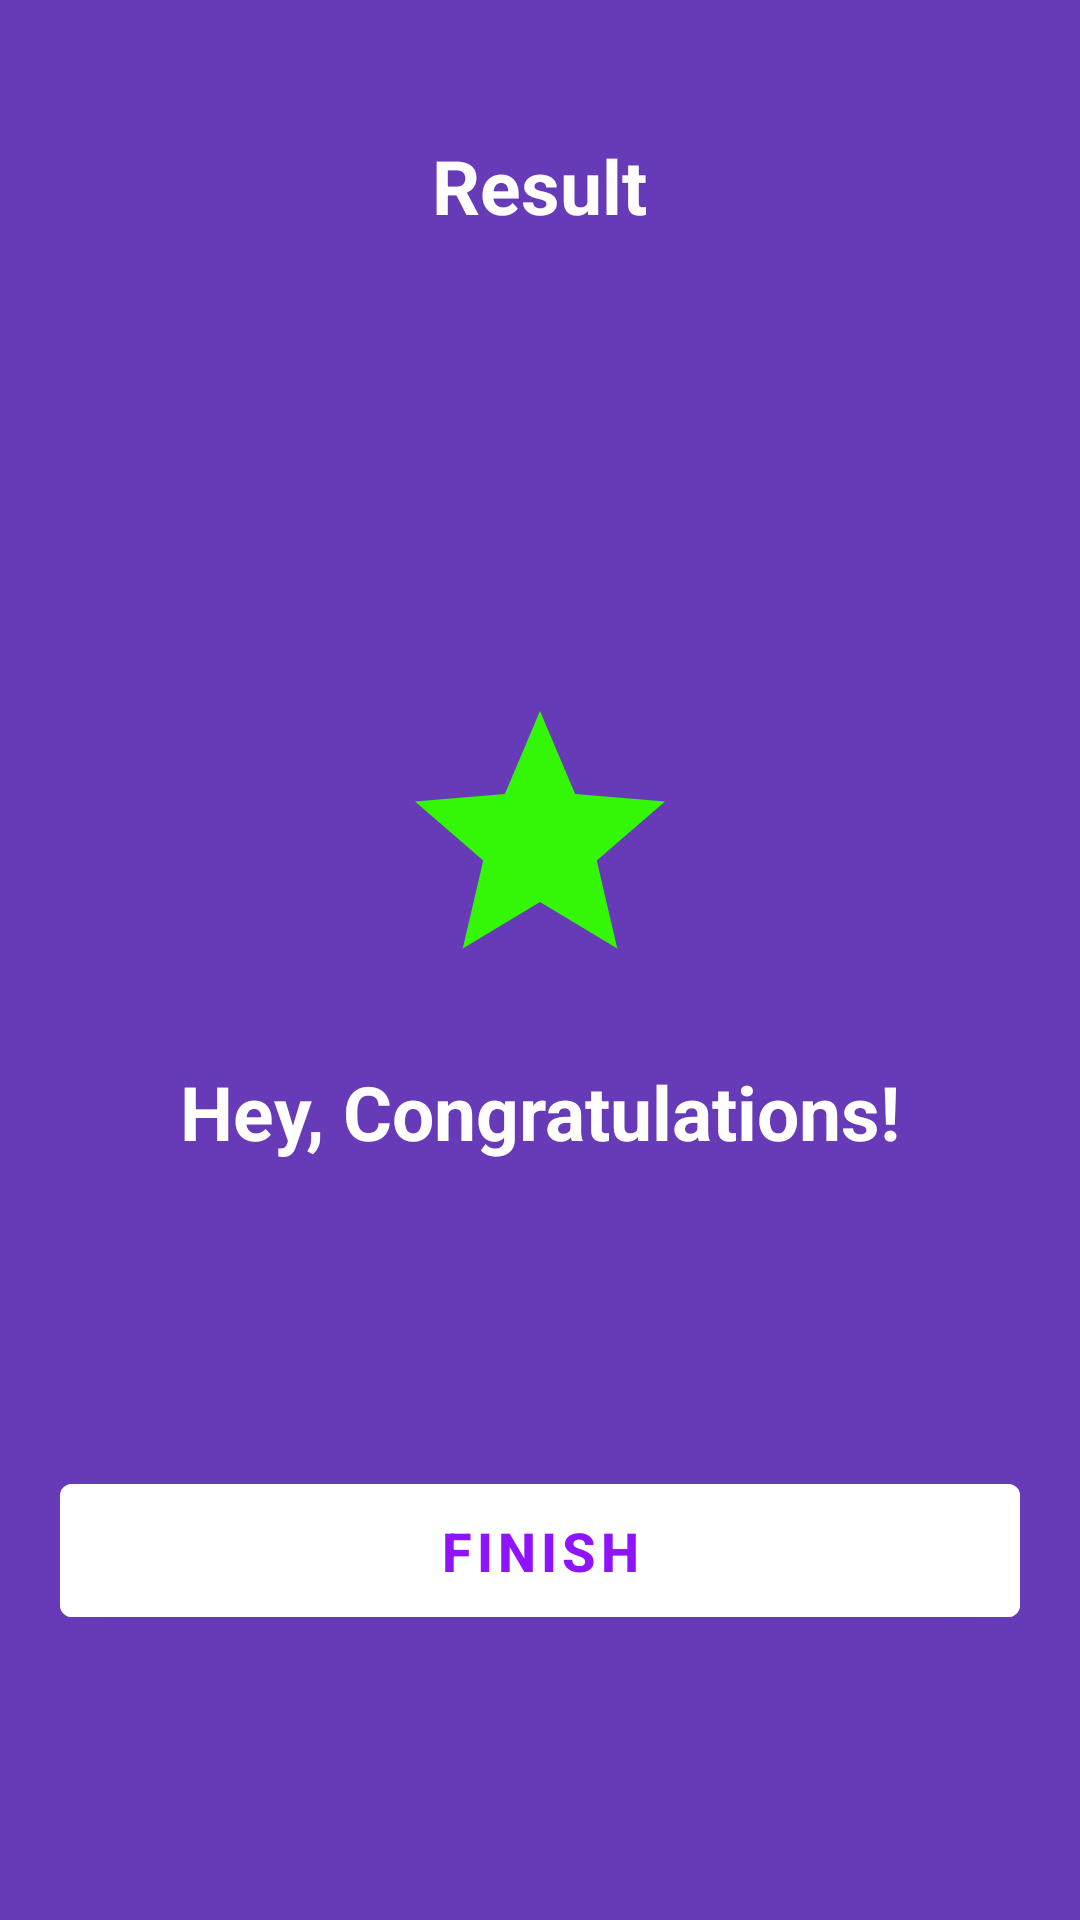

Point at icon controls on the screen. Image size 1080w x 1920h, points as (x=x, y=y).
star: (x=540, y=829)
